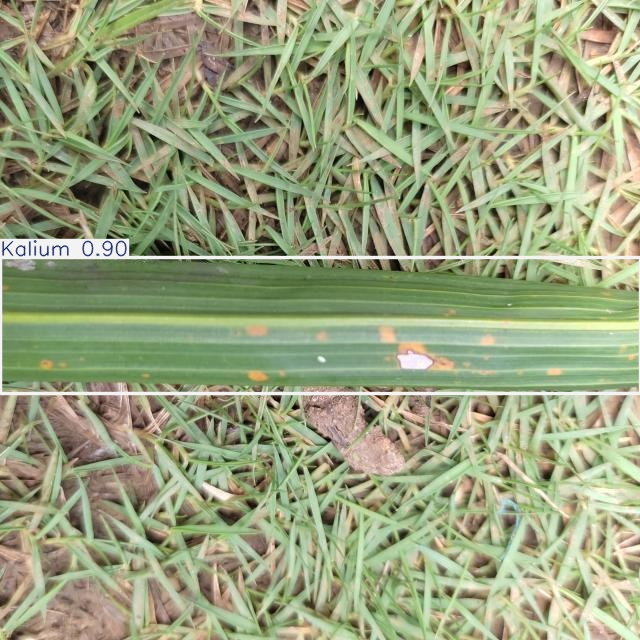Kalium: (0, 258, 640, 393)
